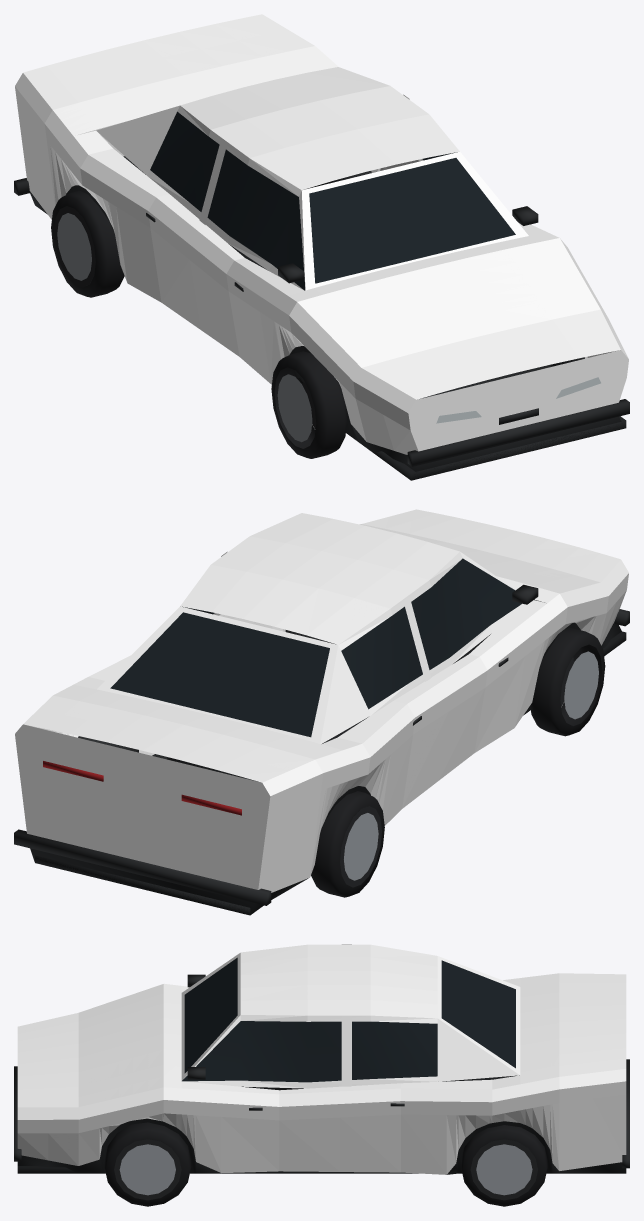
File: mizuchi_dobra.glb
The picture shows the model from 3 angles, top to bottom: view 1: azimuth 30°, elevation 25°; view 2: azimuth 150°, elevation 25°; view 3: azimuth 270°, elevation 25°; orthographic projection. The views are drawn at different scales.
Parts seen in each view (by area): view 1: Body_Paint, Body_Details, Mount_FrontLeft_Wheel_Details, Mount_RearLeft_Wheel_Details; view 2: Body_Paint, Body_Details, Mount_FrontLeft_Wheel_Details, Mount_RearLeft_Wheel_Details; view 3: Body_Paint, Body_Details, Mount_FrontRight_Wheel_Details, Mount_RearRight_Wheel_Details.
Part boxes in pixels (bbox=[...]): Body_Paint: bbox=[15, 14, 628, 454]; Body_Details: bbox=[14, 111, 629, 480]; Mount_FrontLeft_Wheel_Details: bbox=[271, 351, 347, 458]; Mount_RearLeft_Wheel_Details: bbox=[51, 190, 124, 297]; Body_Paint: bbox=[15, 509, 628, 892]; Body_Details: bbox=[14, 558, 629, 915]; Mount_FrontLeft_Wheel_Details: bbox=[530, 627, 605, 736]; Mount_RearLeft_Wheel_Details: bbox=[311, 791, 384, 897]; Body_Paint: bbox=[17, 944, 626, 1174]; Body_Details: bbox=[14, 957, 629, 1174]; Mount_FrontRight_Wheel_Details: bbox=[104, 1122, 191, 1206]; Mount_RearRight_Wheel_Details: bbox=[461, 1125, 547, 1206].
Size of the model in its own units: 1.97 by 1.4 by 4.47.
2 materials, 1 textured.
